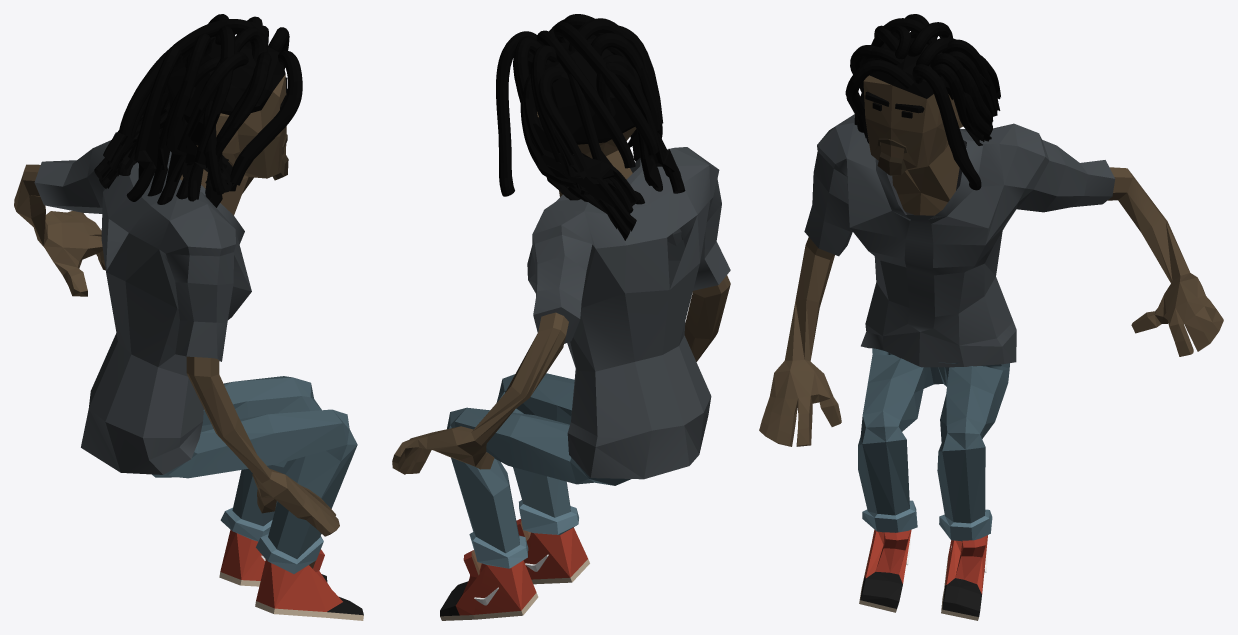
File: shaun.fbx
3 renders of one model, left to right at view 1: azimuth 30°, elevation 25°; view 2: azimuth 150°, elevation 25°; view 3: azimuth 270°, elevation 25°, orthographic. The views are drawn at different scales.
Parts seen in each view (by area): view 1: Brendan.030; view 2: Brendan.030; view 3: Brendan.030.
Boxes of the visible parts, box(x1,y1,x2,y2) form: Brendan.030: box(14, 14, 363, 620); Brendan.030: box(392, 14, 730, 620); Brendan.030: box(759, 14, 1223, 620).
Bounding box in the file's own units: 60.9 × 148 × 113.
Materials: 2 (2 with a texture image).
